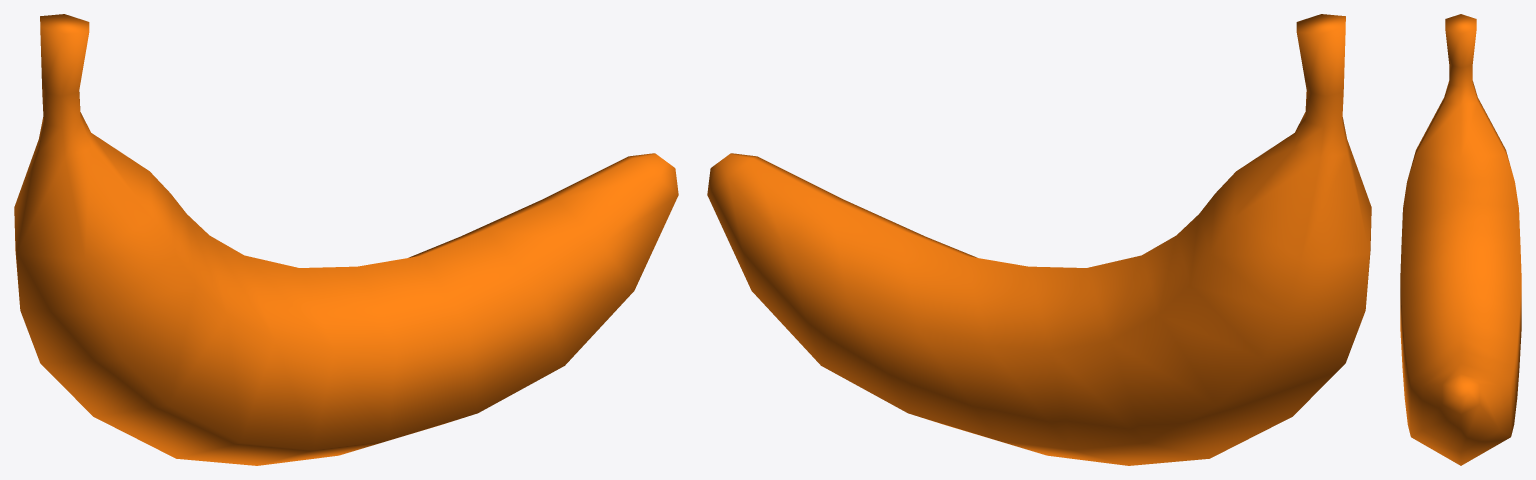
File: banana.fbx
The picture shows the model from 3 angles, left to right: view 1: azimuth 30°, elevation 25°; view 2: azimuth 150°, elevation 25°; view 3: azimuth 270°, elevation 25°; orthographic projection. The views are drawn at different scales.
Visible parts, largest first — view 1: banana; view 2: banana; view 3: banana.
Part boxes in pixels (bbox=[...]): banana: bbox=[14, 14, 678, 465]; banana: bbox=[707, 14, 1371, 465]; banana: bbox=[1400, 14, 1521, 465].
Size of the model in its own units: 1468 by 1071 by 369.
